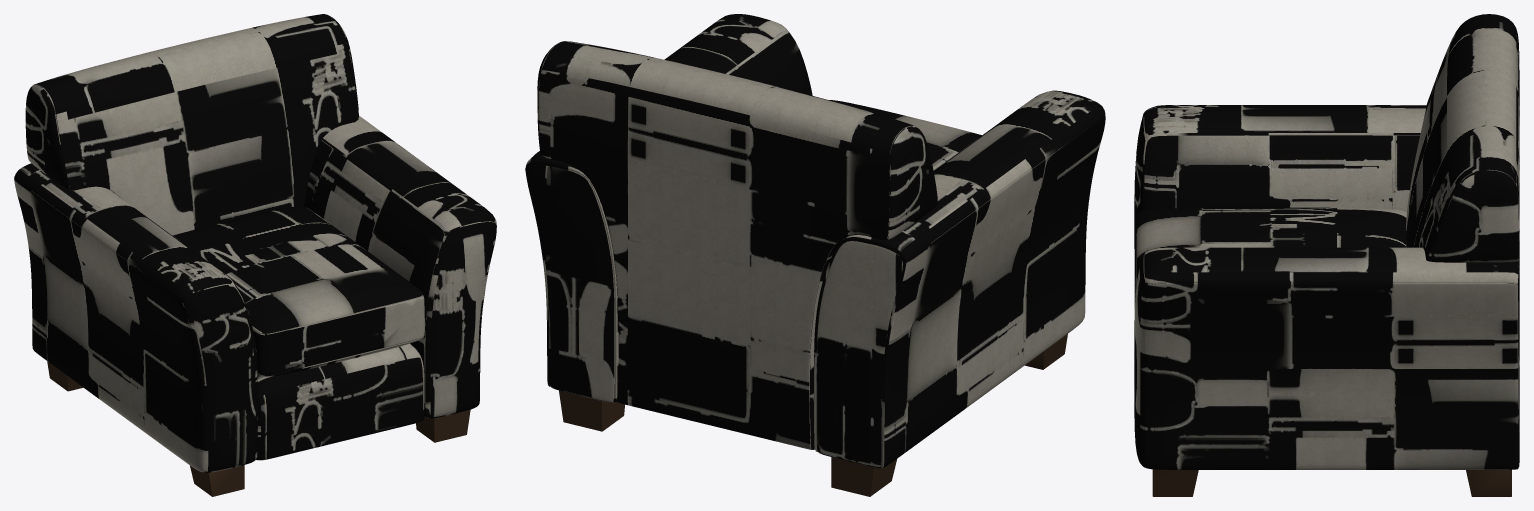
The picture shows the model from 3 angles, left to right: view 1: azimuth 30°, elevation 25°; view 2: azimuth 150°, elevation 25°; view 3: azimuth 270°, elevation 25°; orthographic projection. The views are drawn at different scales.
Visible parts, largest first — view 1: Vintage Armchair; view 2: Vintage Armchair; view 3: Vintage Armchair.
Part boxes in pixels (x1=…): Vintage Armchair: x1=14, y1=14, x2=496, y2=496; Vintage Armchair: x1=525, y1=14, x2=1105, y2=496; Vintage Armchair: x1=1134, y1=14, x2=1519, y2=496.
Size of the model in its own units: 0.9237 by 0.8507 by 0.8709.
2 materials, 2 textured.
